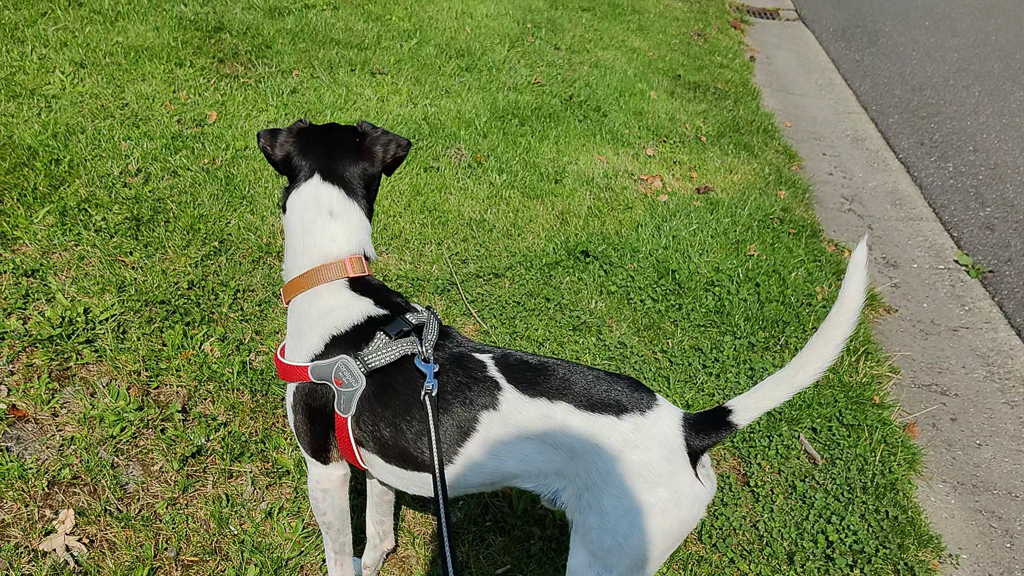Dog: (236, 103, 892, 576)
